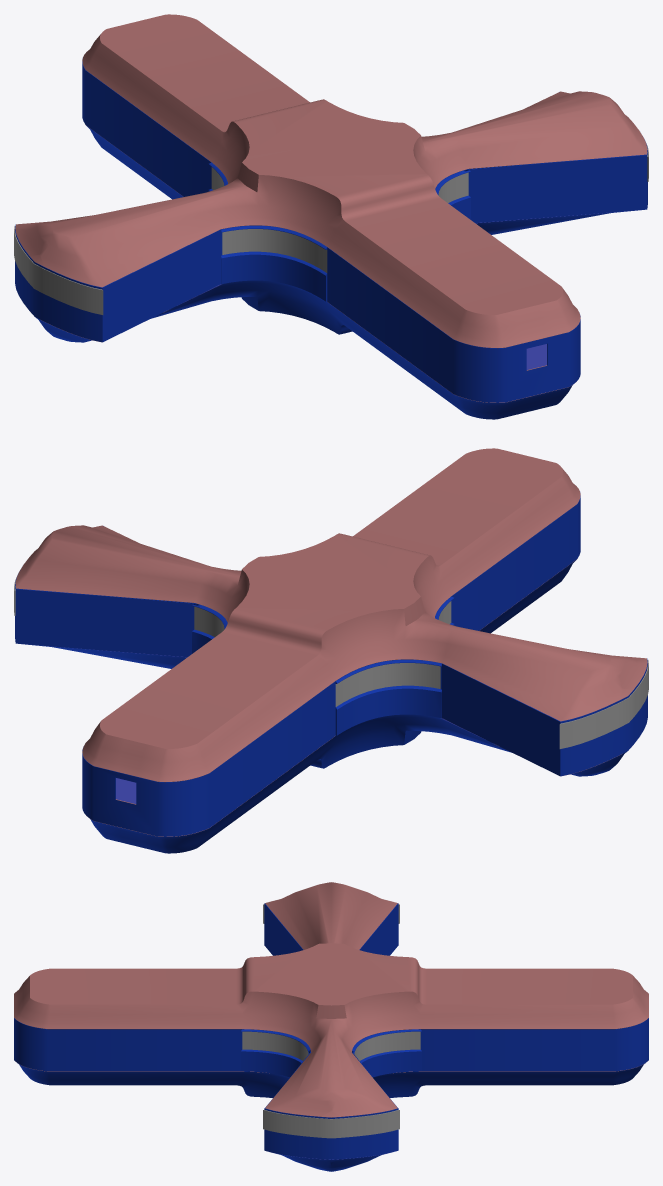
File: SS Module 8.FBX
3 renders of one model, top to bottom at view 1: azimuth 30°, elevation 25°; view 2: azimuth 150°, elevation 25°; view 3: azimuth 270°, elevation 25°, orthographic. The views are drawn at different scales.
Parts seen in each view (by area): view 1: Plane071; view 2: Plane071; view 3: Plane071.
Boxes of the visible parts, x1,y1,x2,y2 form: Plane071: [14, 14, 648, 419]; Plane071: [14, 448, 648, 853]; Plane071: [14, 882, 648, 1171].
Bounding box in the file's own units: 113 × 24.8 × 136.
